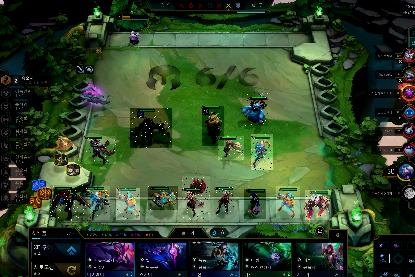1_diana: (214, 187, 234, 215)
1_leesin: (251, 134, 273, 170), (88, 186, 110, 220)
1_nunu: (242, 92, 268, 126)
1_olaf: (305, 190, 331, 220)
1_rakan: (182, 176, 210, 220), (218, 136, 244, 160)
1_rengar: (130, 108, 172, 148), (50, 185, 90, 221)
1_seraphine: (148, 186, 178, 210)
1_sylas: (84, 136, 116, 164)
1_varus: (244, 189, 266, 219)
1_volibear: (202, 106, 224, 146)
1_zeri: (116, 188, 140, 220), (276, 186, 300, 218)
